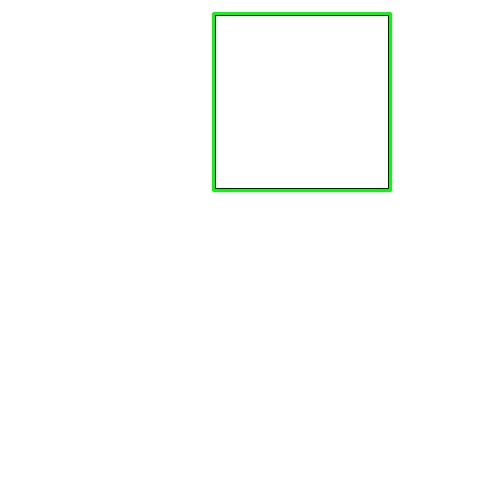line_segment: (212, 12, 392, 192)
